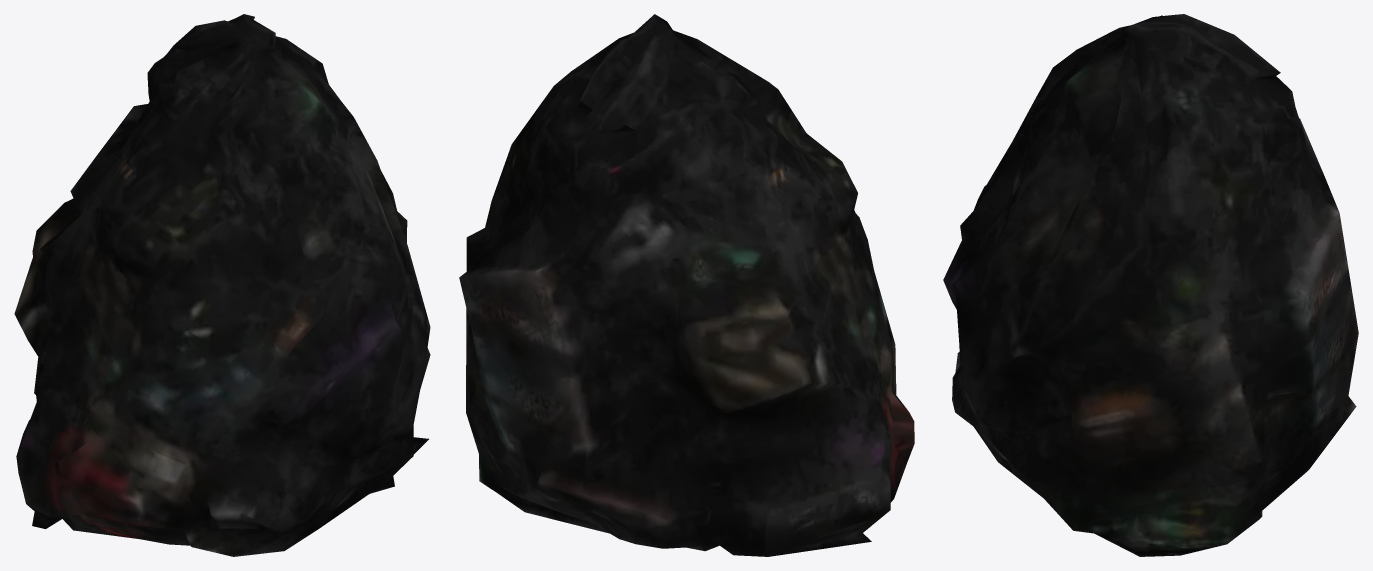
Rendered from trashbag.glb.
3 renders of one model, left to right at view 1: azimuth 30°, elevation 25°; view 2: azimuth 150°, elevation 25°; view 3: azimuth 270°, elevation 25°, orthographic. The views are drawn at different scales.
Visible parts, largest first — view 1: trashbag; view 2: trashbag; view 3: trashbag.
Boxes of the visible parts, box(x1,y1,x2,y2) form: trashbag: box(14, 14, 430, 556); trashbag: box(459, 14, 914, 556); trashbag: box(943, 14, 1358, 556).
Size of the model in its own units: 0.5236 by 0.5684 by 0.4629.
Materials: 1 (1 with a texture image).
